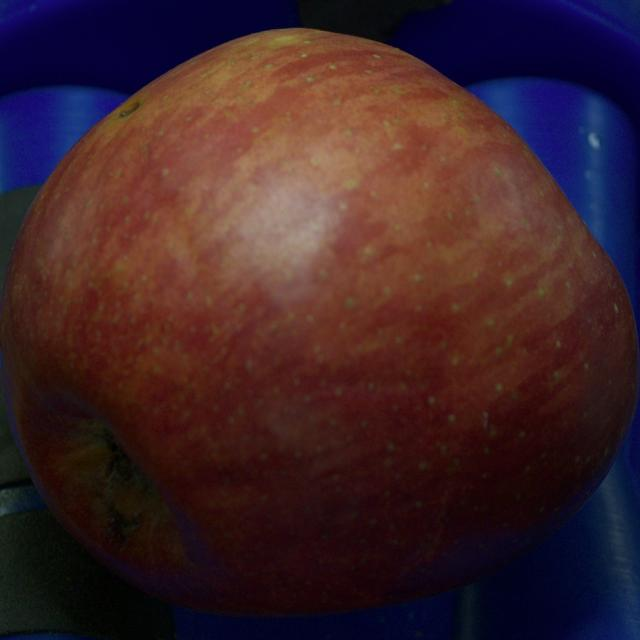apple: (0, 29, 639, 616)
pest: (98, 490, 151, 553), (119, 99, 140, 117)
